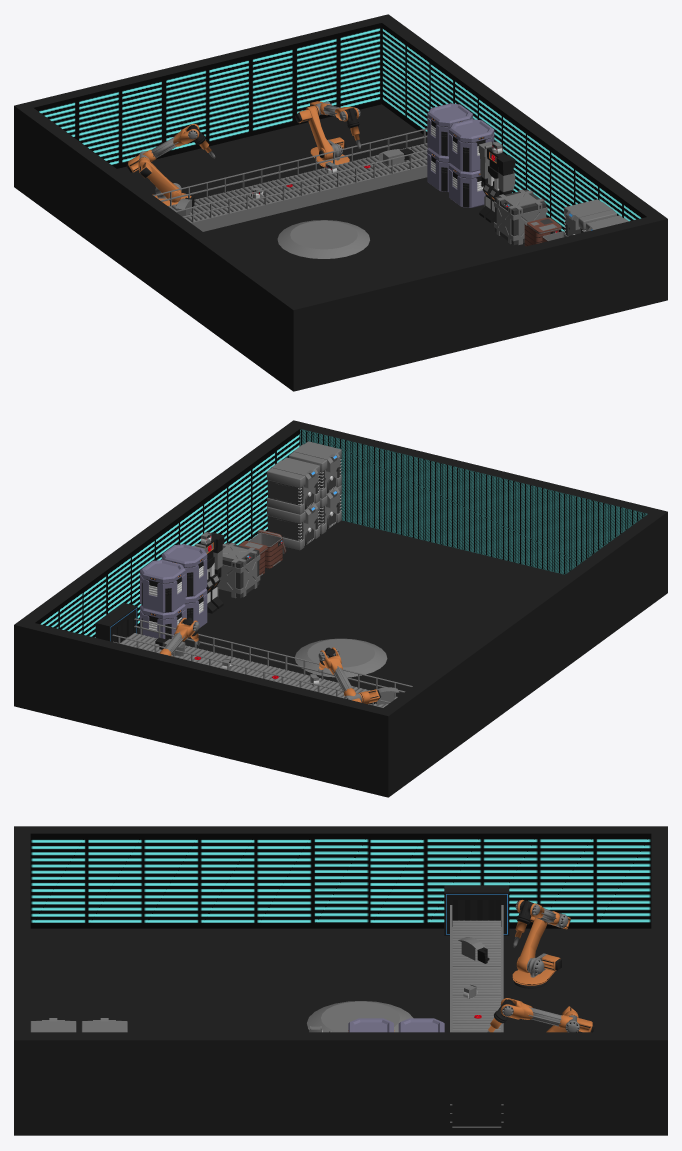
The model's file is lab3-2.glb.
3 views of the same model, one above another, from view 1: azimuth 30°, elevation 25°; view 2: azimuth 150°, elevation 25°; view 3: azimuth 270°, elevation 25° (orthographic). The views are drawn at different scales.
Parts seen in each view (by area): view 1: Object_467, Object_467.001, Cube, Cylinder, Object_301, Cylinder.006, Cylinder.011, Crate-4x4x4-2, Object_1207, Component#32.001, Component#32.008, Component#32.002 (+3 smaller); view 2: Object_467, Object_467.001, Component#72.014, Cylinder, Cube, Object_301, Component#32.008, Crate-4x4x4-2, Component#72.001, Component#72.002, Component#32.001, Object_1207 (+7 smaller); view 3: Object_467, Object_467.001, Cylinder, Cylinder.006, Object_1198.001, Object_301, Cylinder.011, Cube, Component#32.008, Component#32.001, Component#72.014, Component#72.002 (+1 smaller).
Part boxes in pixels (x1,y1,x2,y2): Object_467: (14,14,667,391); Object_467.001: (34,23,646,231); Cube: (153,128,427,231); Cylinder: (168,143,428,222); Object_301: (277,220,369,258); Cylinder.006: (126,124,215,205); Cylinder.011: (295,101,360,168); Crate-4x4x4-2: (494,189,547,244); Object_1207: (478,141,515,222); Component#32.001: (449,119,494,172); Component#32.008: (427,103,472,156); Component#32.002: (449,163,486,207); Object_467: (14,420,667,797); Object_467.001: (35,429,299,637); Component#72.014: (267,457,319,514); Cylinder: (120,633,397,707); Cube: (112,618,412,707); Object_301: (295,638,387,677); Component#32.008: (140,560,185,613); Crate-4x4x4-2: (217,542,260,598); Component#72.001: (267,501,319,550); Component#72.002: (289,441,341,498); Component#32.001: (161,544,207,597); Object_1207: (193,531,224,613); Object_467: (14,826,667,1135); Object_467.001: (30,833,651,928); Cylinder: (452,920,500,1032); Cylinder.006: (512,899,570,988); Object_1198.001: (444,885,509,935); Object_301: (307,1001,413,1032); Cylinder.011: (487,998,594,1032); Cube: (450,905,503,1127); Component#32.008: (398,1018,444,1032); Component#32.001: (348,1018,394,1032); Component#72.014: (81,1018,127,1032); Component#72.002: (30,1018,76,1032).
Bounding box in the file's own units: 13.48 × 2.8 × 17.35.
Materials: 12 (2 with a texture image).
